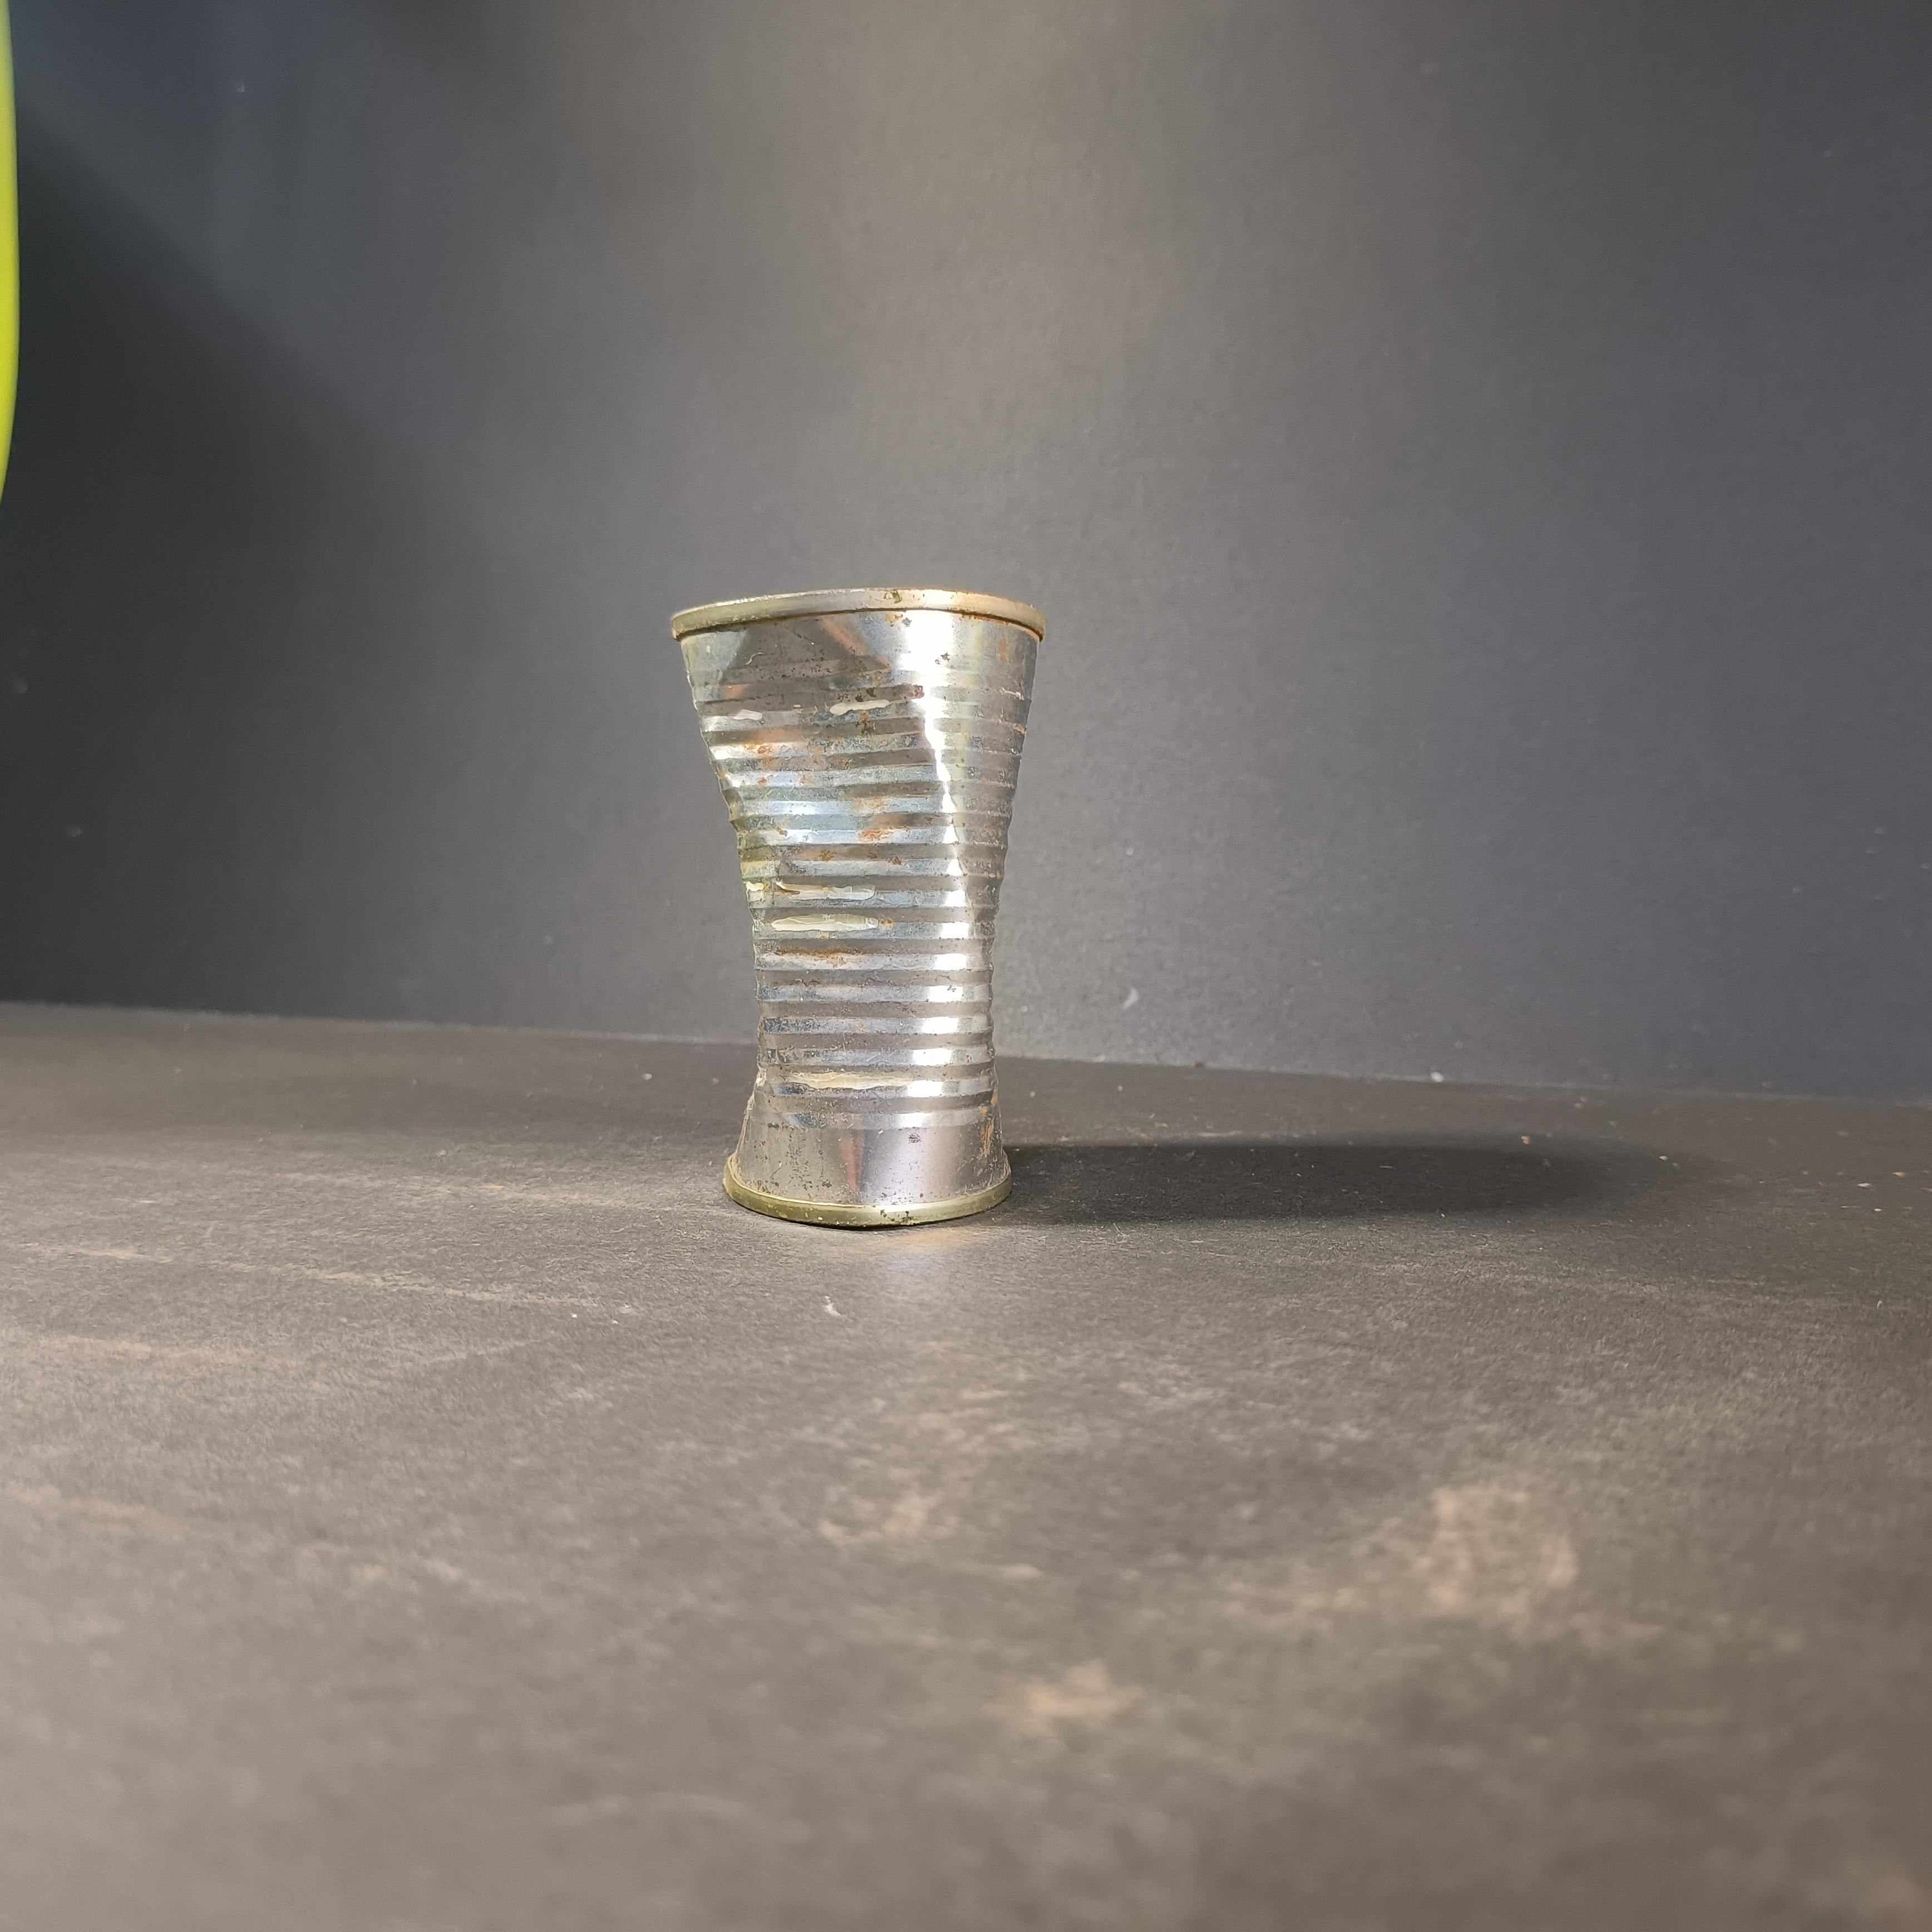Major Defect: (673, 588, 1046, 1225)
